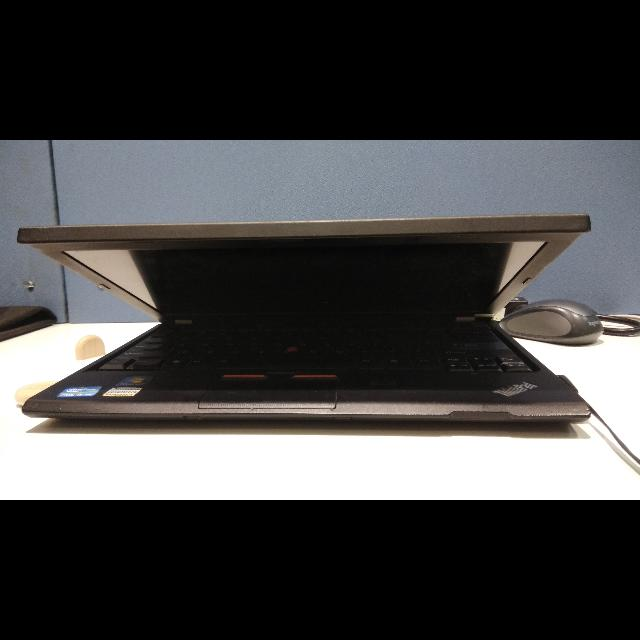Laptop: (6, 211, 600, 444)
